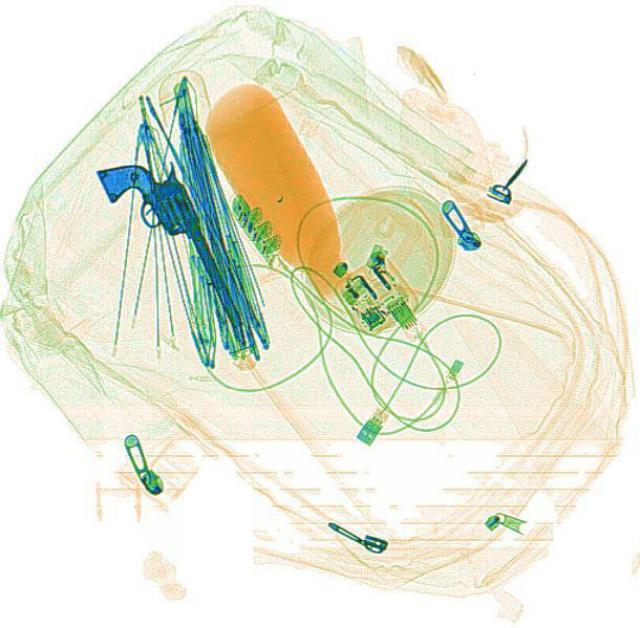Gun: (94, 145, 242, 348)
